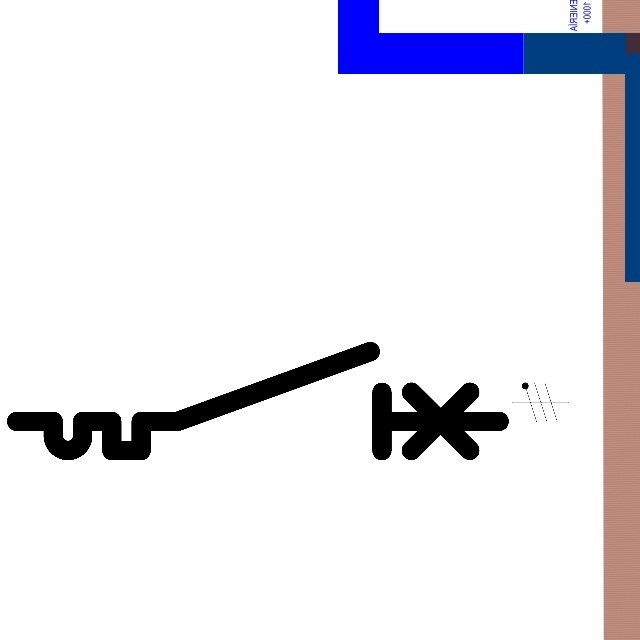interruptor_termomagnetico: (4, 339, 512, 463)
